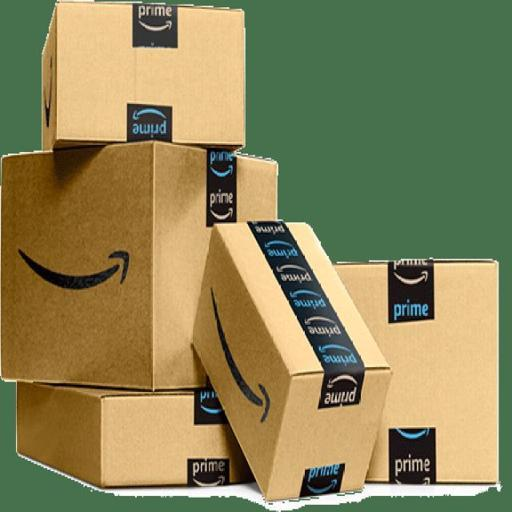Amazon: (0, 149, 282, 385), (190, 221, 379, 498), (335, 260, 501, 490), (39, 0, 249, 151), (10, 377, 244, 491)
